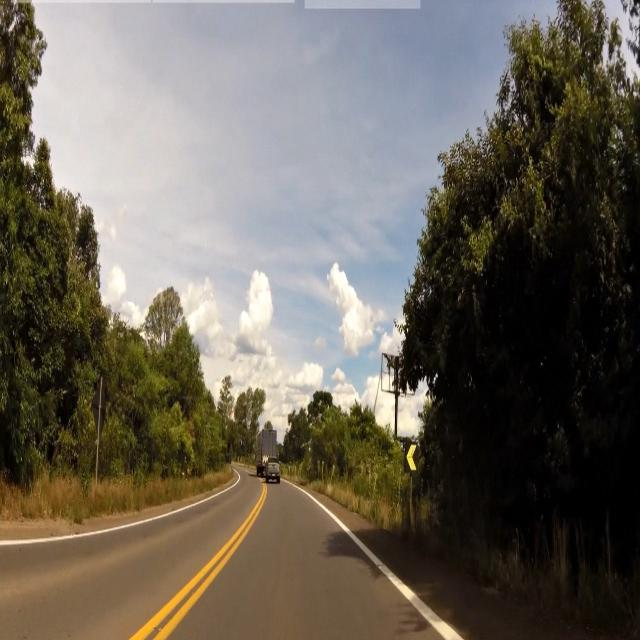Del: (404, 440, 418, 474)
